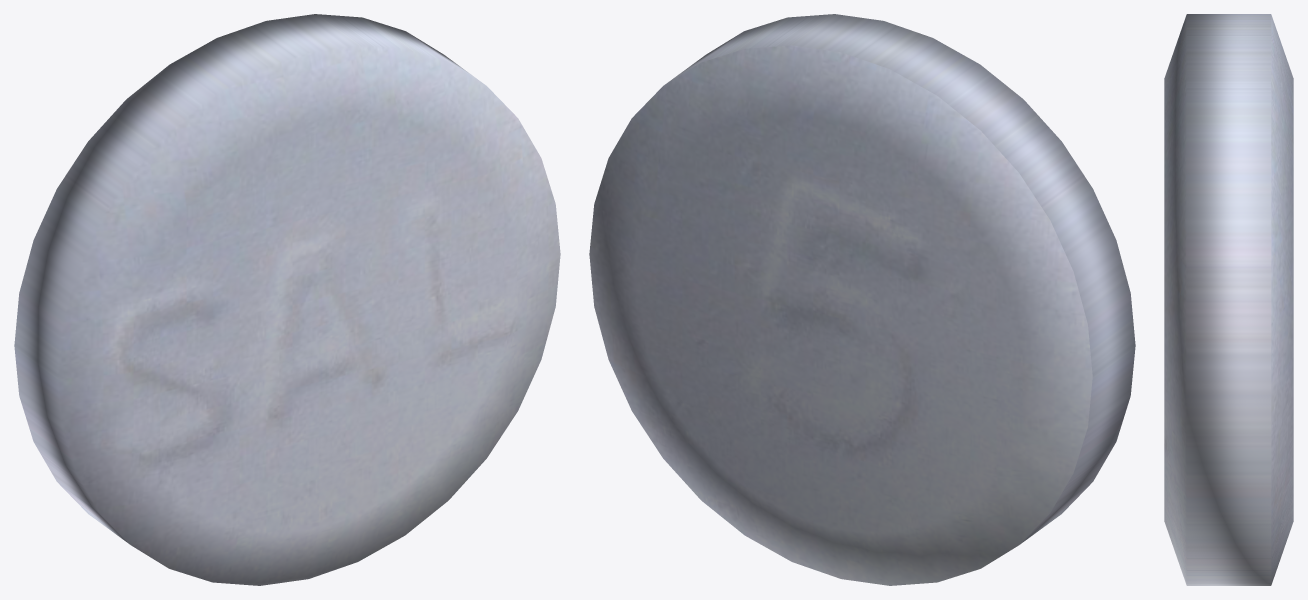
Rendered from 20180620GOPHDRGPT28095.fbx.
3 views of the same model, side by side, from view 1: azimuth 30°, elevation 25°; view 2: azimuth 150°, elevation 25°; view 3: azimuth 270°, elevation 25° (orthographic).
Parts seen in each view (by area): view 1: Cylinder.001; view 2: Cylinder.001; view 3: Cylinder.001.
Boxes of the visible parts, <box> form: Cylinder.001: <box>14,14,560,585</box>; Cylinder.001: <box>589,14,1135,585</box>; Cylinder.001: <box>1164,14,1293,585</box>.
Size of the model in its own units: 6.01 by 6.01 by 1.36.
